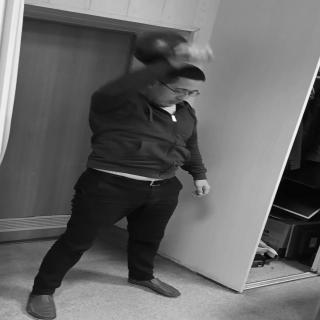kettlebell: (135, 33, 211, 67)
